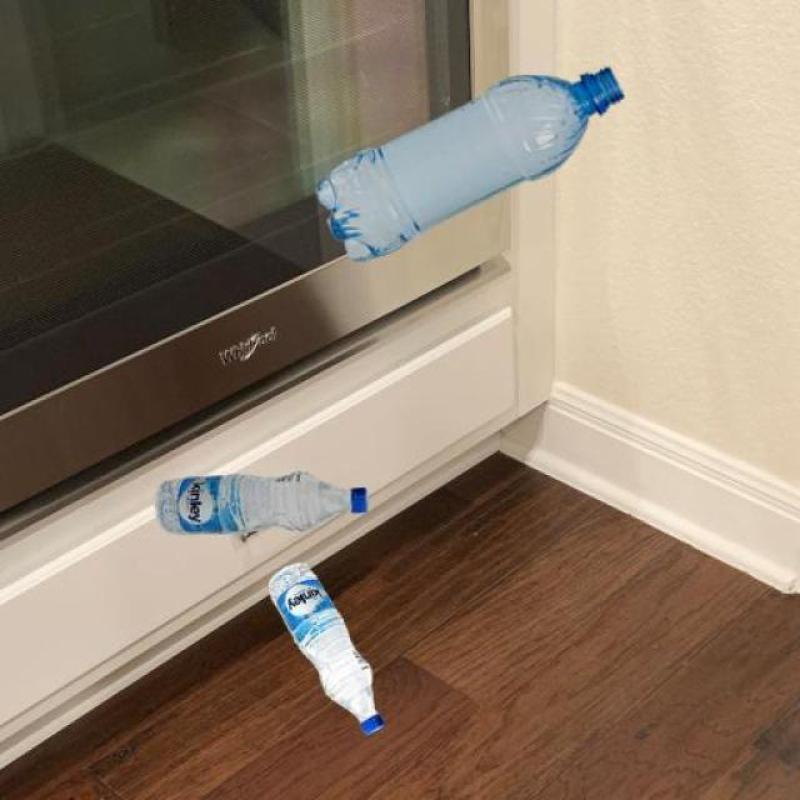botella: (315, 61, 623, 265), (266, 562, 384, 738), (154, 472, 370, 533)
